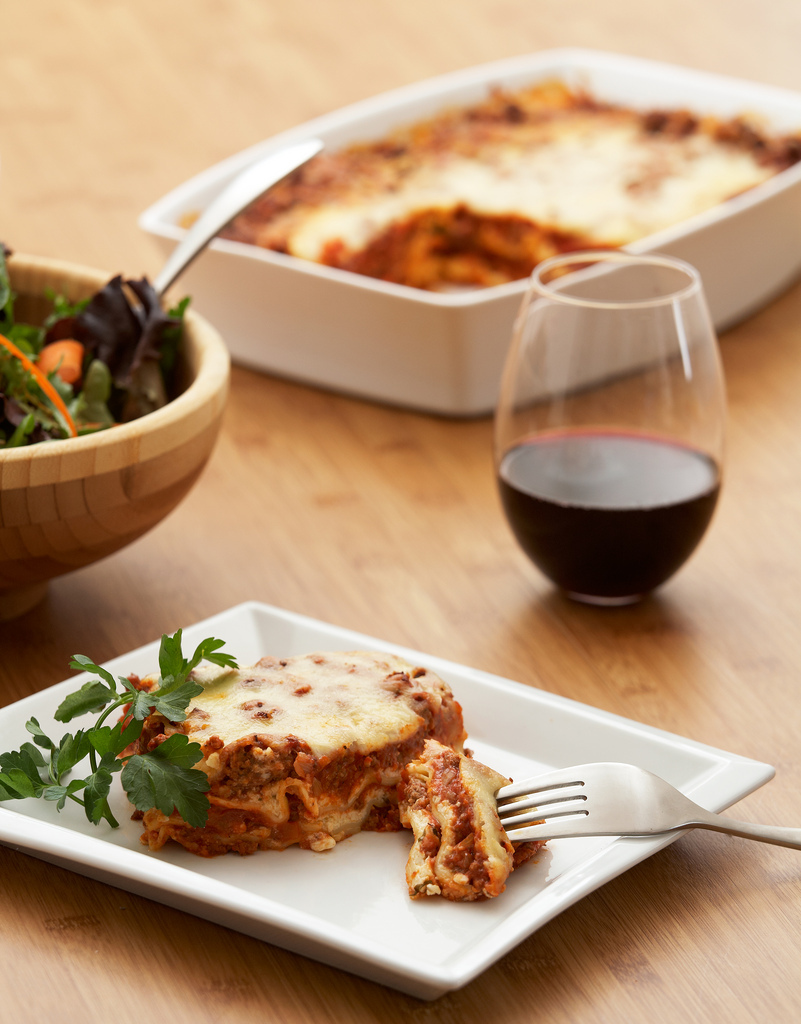salad: (0, 240, 196, 469)
